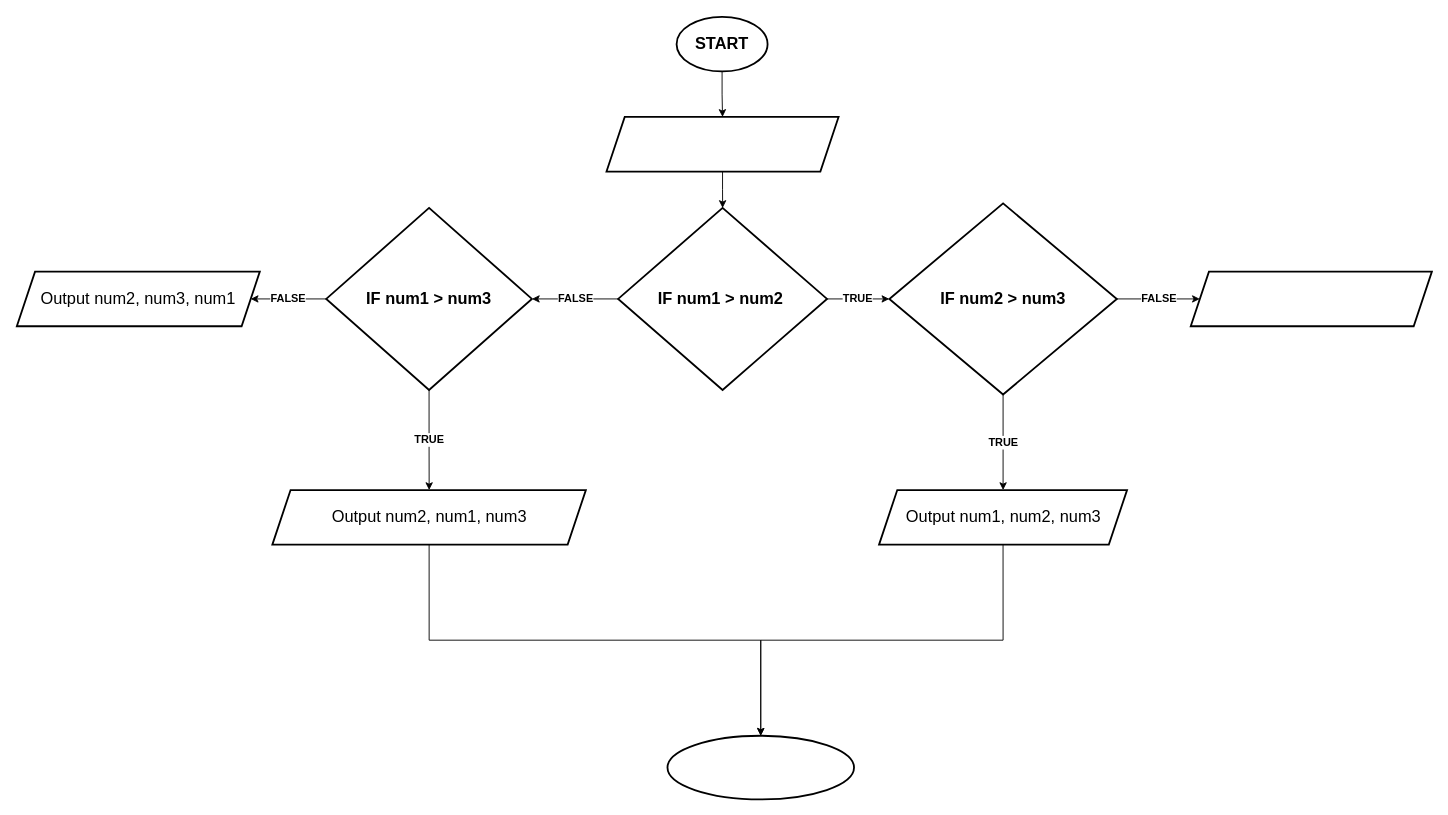
This 1448x815 diagram has some shape labels left out. Here are the shapes that lost their labels. From the top down, the centre of each, then its label:
At (x=722, y=144): "input num1, num2, num3".
At (x=1310, y=298): "Output num1, num3, num2".
At (x=760, y=767): "END".
